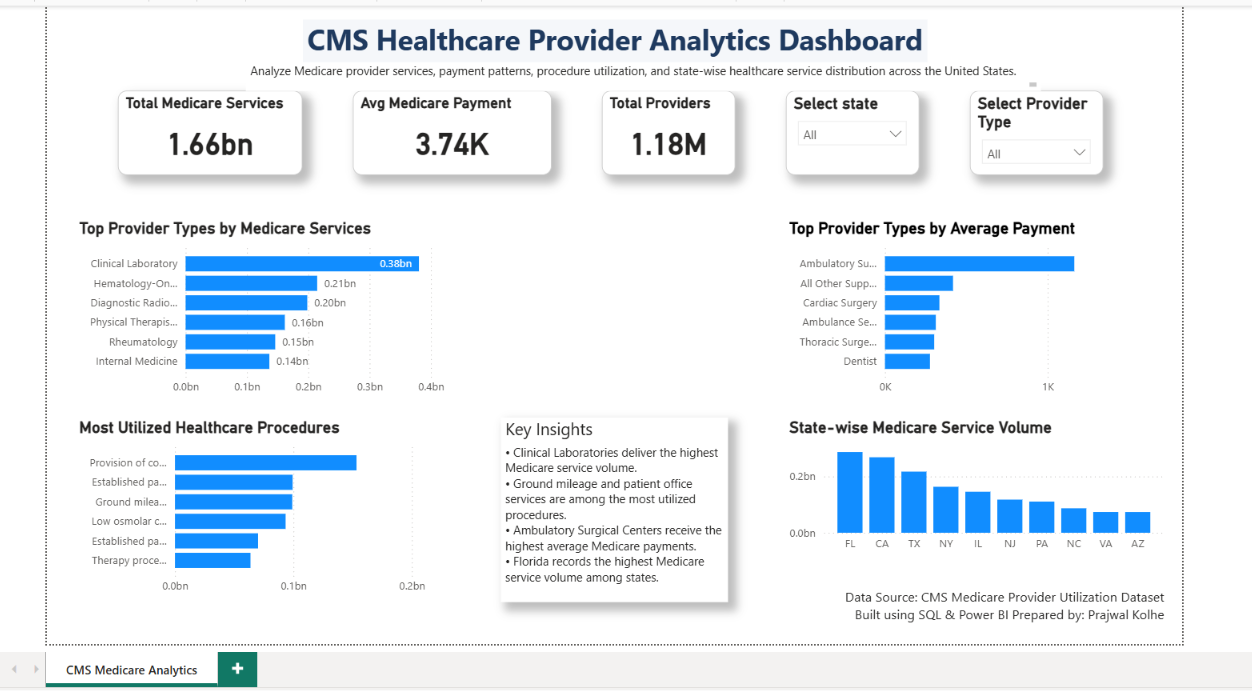

The page's visual inventory and layout, read from the dashboard file:
{"tool":"powerbi","page":{"name":"CMS Medicare Analytics","canvas":[1280,720],"ordinal":0},"visuals":[{"type":"clusteredBarChart","title":"Top Provider Types by Medicare Services","fields":{"Category":["provider_type_services.Rndrng_Prvdr_Type"],"Y":["Sum(provider_type_services.total_services)"]},"box":[32,240,448,208],"z":0},{"type":"clusteredBarChart","title":"Most Utilized Healthcare Procedures","fields":{"Category":["top_procedures.HCPCS_Desc"],"Y":["Sum(top_procedures.total_services)"]},"box":[32,464,400,208],"z":1000},{"type":"columnChart","title":"State-wise Medicare Service Volume","fields":{"Category":["state_service_volume.Rndrng_Prvdr_State_Abrvtn"],"Y":["Sum(state_service_volume.total_services)"]},"box":[832,464,432,160],"z":2000},{"type":"barChart","title":"Top Provider Types by Average Payment","fields":{"Category":["provider_avg_payment.Rndrng_Prvdr_Type"],"Y":["Sum(provider_avg_payment.avg_payment)"]},"box":[832,240,400,208],"z":3000},{"type":"card","title":"Total Medicare Services","fields":{"Values":["Sum(provider_type_services.total_services)"]},"box":[80,96,208,95],"z":4000},{"type":"card","title":"Avg Medicare Payment","fields":{"Values":["Sum(provider_avg_payment.avg_payment)"]},"box":[345,96,224,95],"z":5000},{"type":"card","title":"Total Providers","fields":{"Values":["Sum(provider_participation_analysis.total_providers)"]},"box":[626,96,150,95],"z":6000},{"type":"textbox","title":"CMS Healthcare Provider Analytics Dashboard","box":[288,16,704,48],"z":7000},{"type":"slicer","title":"Select state","fields":{"Values":["state_service_volume.Rndrng_Prvdr_State_Abrvtn"]},"box":[833,96,150,95],"z":8000},{"type":"slicer","title":"Select Provider Type","fields":{"Values":["provider_type_services.Rndrng_Prvdr_Type"]},"box":[1040,96,150,95],"z":9000},{"type":"textbox","title":"Data Source: CMS Medicare Provider Utilization Dataset  Built using SQL & Power BI  Prepared by: Prajwal Kolhe","box":[864,656,400,48],"z":10000},{"type":"textbox","title":"Key Insights","box":[512,464,256,208],"z":11000},{"type":"textbox","title":"Analyze Medicare provider services, payment patterns, procedure utilization, and state-wise healthcare service distribution across the United States.","box":[224,64,896,32],"z":11001}]}

Visuals, with their boxes on the page's 1280x720 design canvas (x1, y1, x2, y2). These are canvas units, not pixel positions in the 1252x691 screenshot, which may show the page scaled, cropped or inside an application window:
"Top Provider Types by Medicare Services" clusteredBarChart: (32,240,480,448)
"Most Utilized Healthcare Procedures" clusteredBarChart: (32,464,432,672)
"State-wise Medicare Service Volume" columnChart: (832,464,1264,624)
"Top Provider Types by Average Payment" barChart: (832,240,1232,448)
"Total Medicare Services" card: (80,96,288,191)
"Avg Medicare Payment" card: (345,96,569,191)
"Total Providers" card: (626,96,776,191)
"CMS Healthcare Provider Analytics Dashboard" textbox: (288,16,992,64)
"Select state" slicer: (833,96,983,191)
"Select Provider Type" slicer: (1040,96,1190,191)
"Data Source: CMS Medicare Provider Utilization Dataset  Built using SQL & Power BI  Prepared by: Prajwal Kolhe" textbox: (864,656,1264,704)
"Key Insights" textbox: (512,464,768,672)
"Analyze Medicare provider services, payment patterns, procedure utilization, and state-wise healthcare service distribution across the United States." textbox: (224,64,1120,96)
